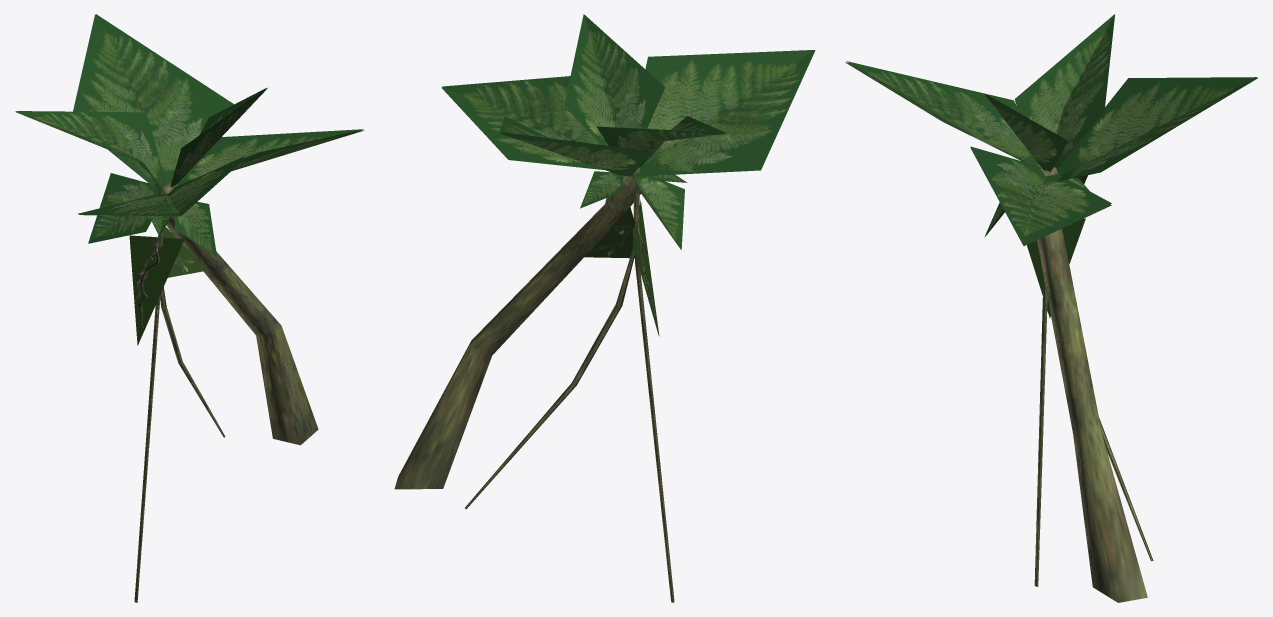
File: fern_ferntree_vines_l1.fbx
3 views of the same model, side by side, from view 1: azimuth 30°, elevation 25°; view 2: azimuth 150°, elevation 25°; view 3: azimuth 270°, elevation 25° (orthographic). The views are drawn at different scales.
Parts seen in each view (by area): view 1: mesh_node; view 2: mesh_node; view 3: mesh_node.
Boxes of the visible parts, x1,y1,x2,y2 form: mesh_node: (15, 14, 364, 602); mesh_node: (394, 14, 815, 602); mesh_node: (845, 14, 1258, 602).
Size of the model in its own units: 2.63 by 4.11 by 2.82.
Materials: 2 (2 with a texture image).
